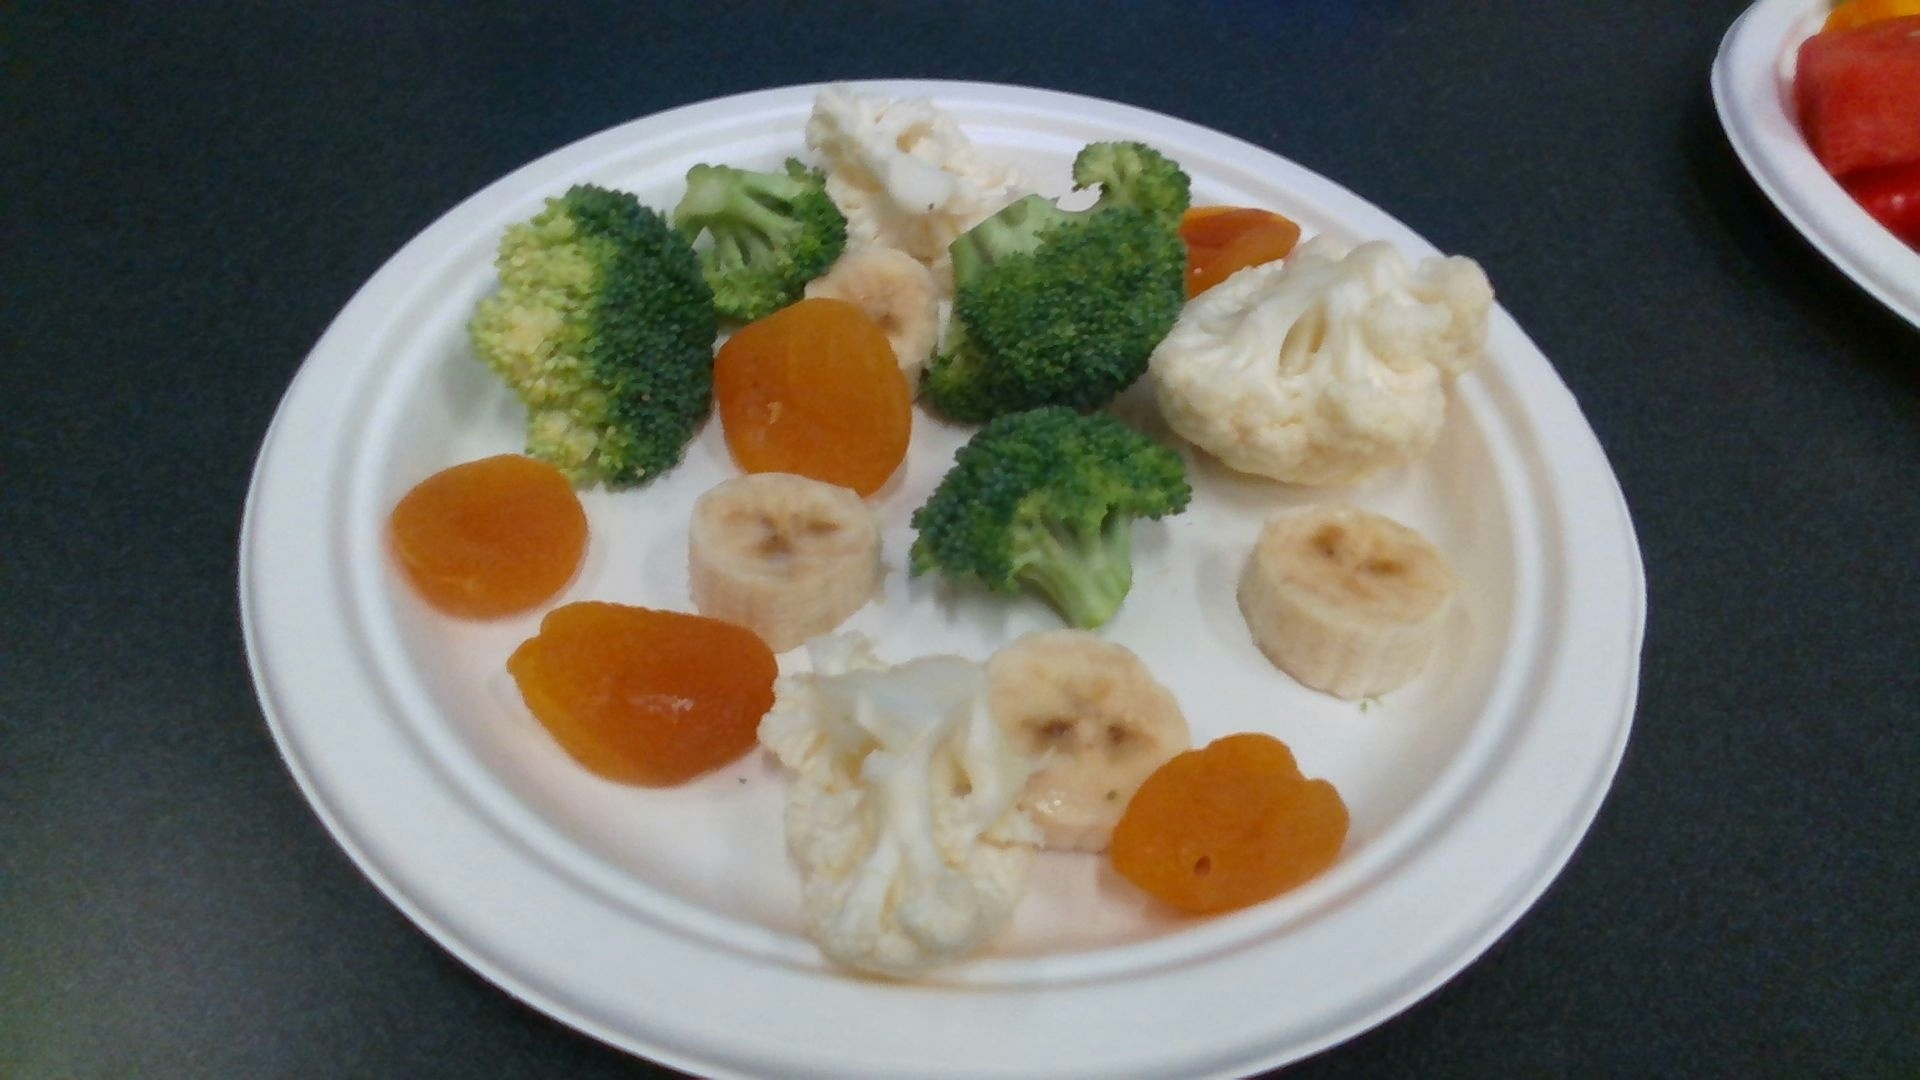apricot: (509, 607, 781, 786), (1112, 738, 1350, 915), (715, 305, 909, 491), (386, 455, 587, 625)
banana: (977, 636, 1187, 847), (1237, 505, 1460, 694), (692, 475, 880, 646)
broccoli: (472, 183, 715, 481), (920, 140, 1189, 406), (914, 406, 1187, 626), (676, 165, 851, 316)
cauliflower: (762, 633, 1044, 975), (1153, 231, 1491, 487), (789, 80, 1035, 285)
